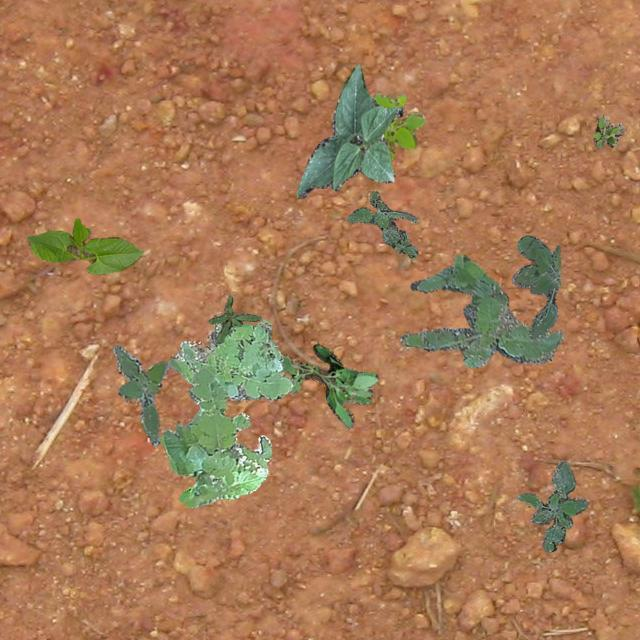crop: (296, 62, 404, 196), (26, 218, 142, 274)
weed: (400, 254, 562, 366), (160, 364, 270, 506), (168, 318, 294, 399), (280, 342, 378, 428), (516, 460, 588, 550), (111, 344, 168, 446), (510, 234, 560, 338), (344, 190, 418, 258), (372, 92, 424, 160), (208, 294, 260, 342), (592, 114, 624, 148)
